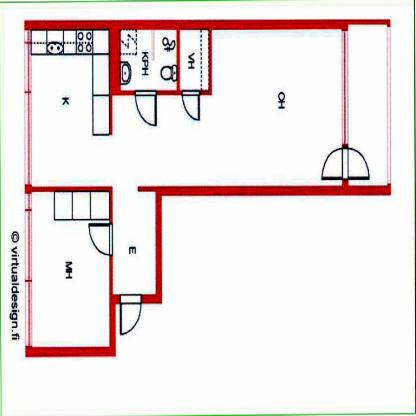door: (321, 142, 371, 184), (119, 294, 142, 336), (88, 220, 113, 256), (133, 89, 156, 128), (180, 89, 204, 126)
window: (25, 193, 32, 346), (341, 30, 350, 146), (24, 28, 30, 186)
zone: (31, 26, 342, 296), (32, 191, 108, 348), (348, 24, 388, 186), (121, 27, 176, 89), (180, 25, 209, 91)
